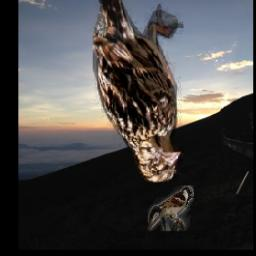Sparrow: (92, 0, 183, 183), (148, 186, 194, 231)
